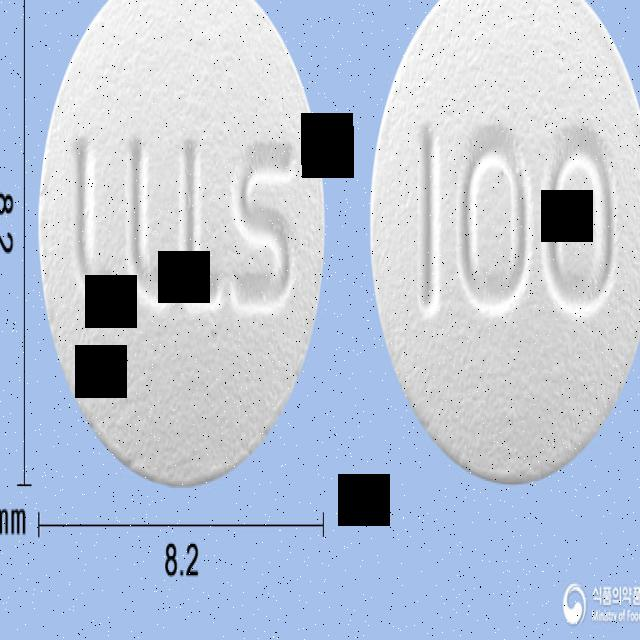Highloxin - 500mg: (35, 0, 326, 484), (369, 0, 640, 484)
